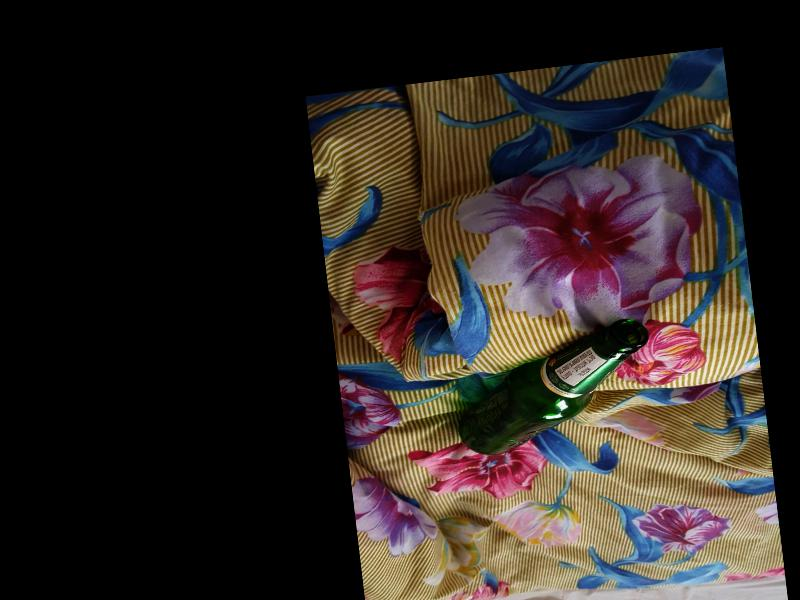Beer: (450, 315, 659, 457)
